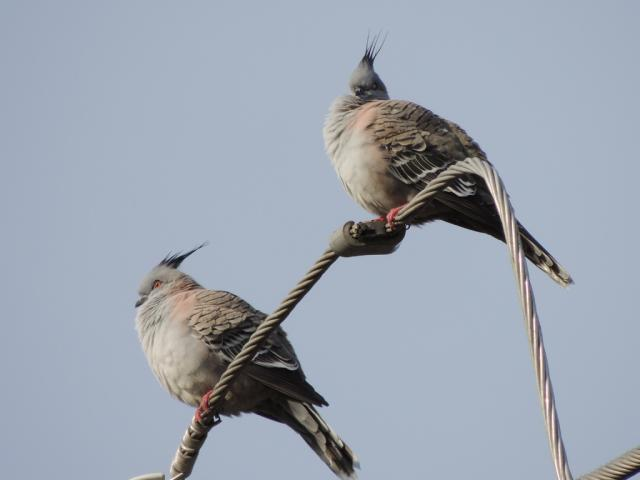Bird: (323, 27, 576, 292), (132, 240, 362, 480)
